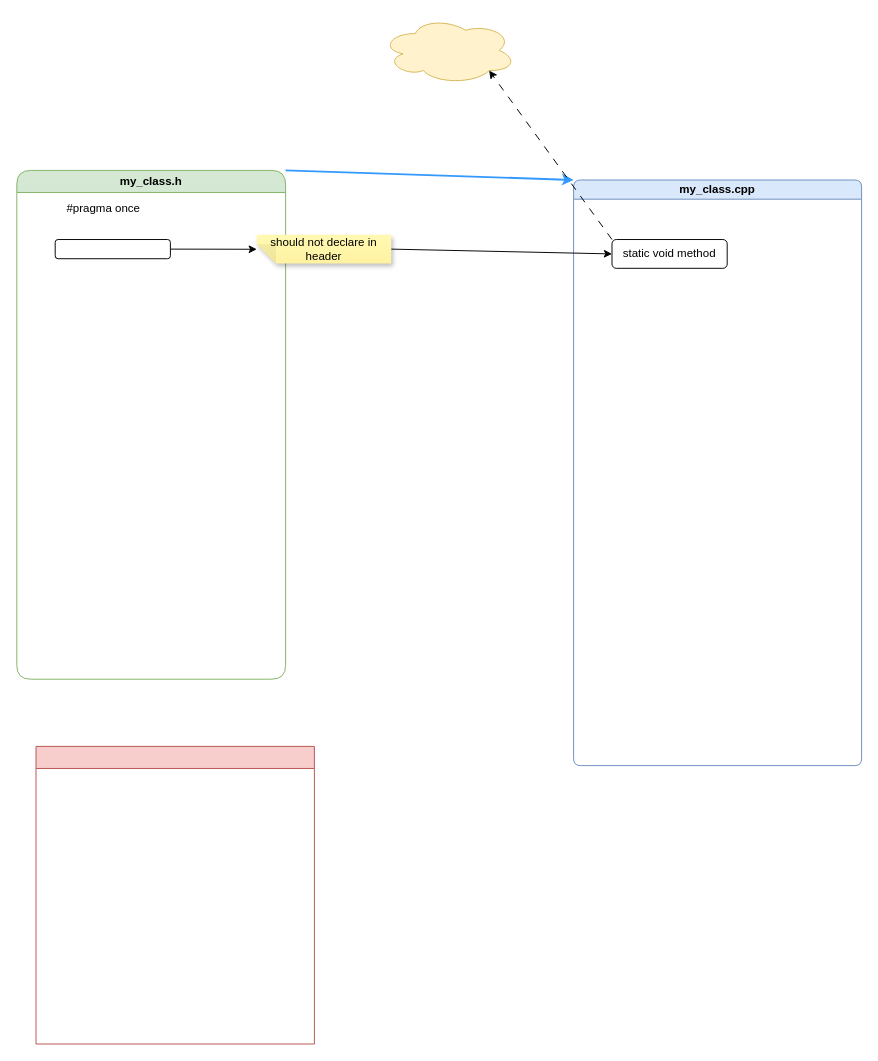
Image size: 878x1061. Some labels were removed from this diagram. The centre of each missing label's shape, as x and y in pixels:
main.cpp: the point at 174,894
used only in the block that defined: the point at 448,50
